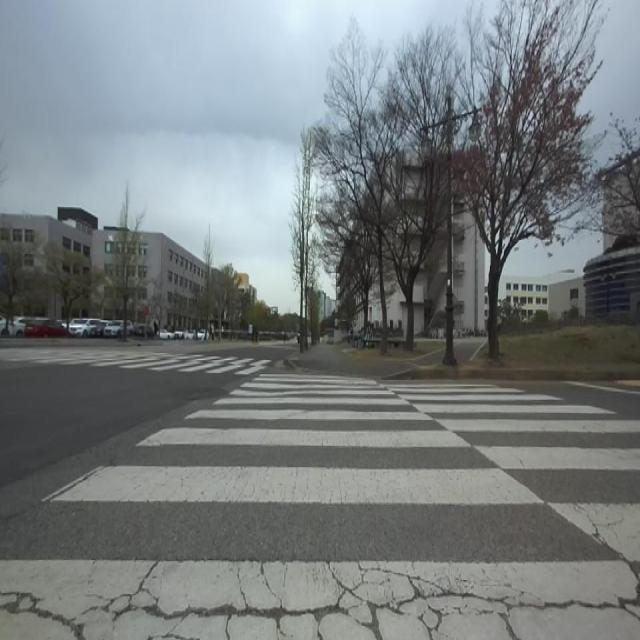sidewalk: (289, 345, 360, 373), (341, 359, 412, 376), (506, 362, 640, 371), (410, 356, 444, 365), (457, 359, 481, 365)
